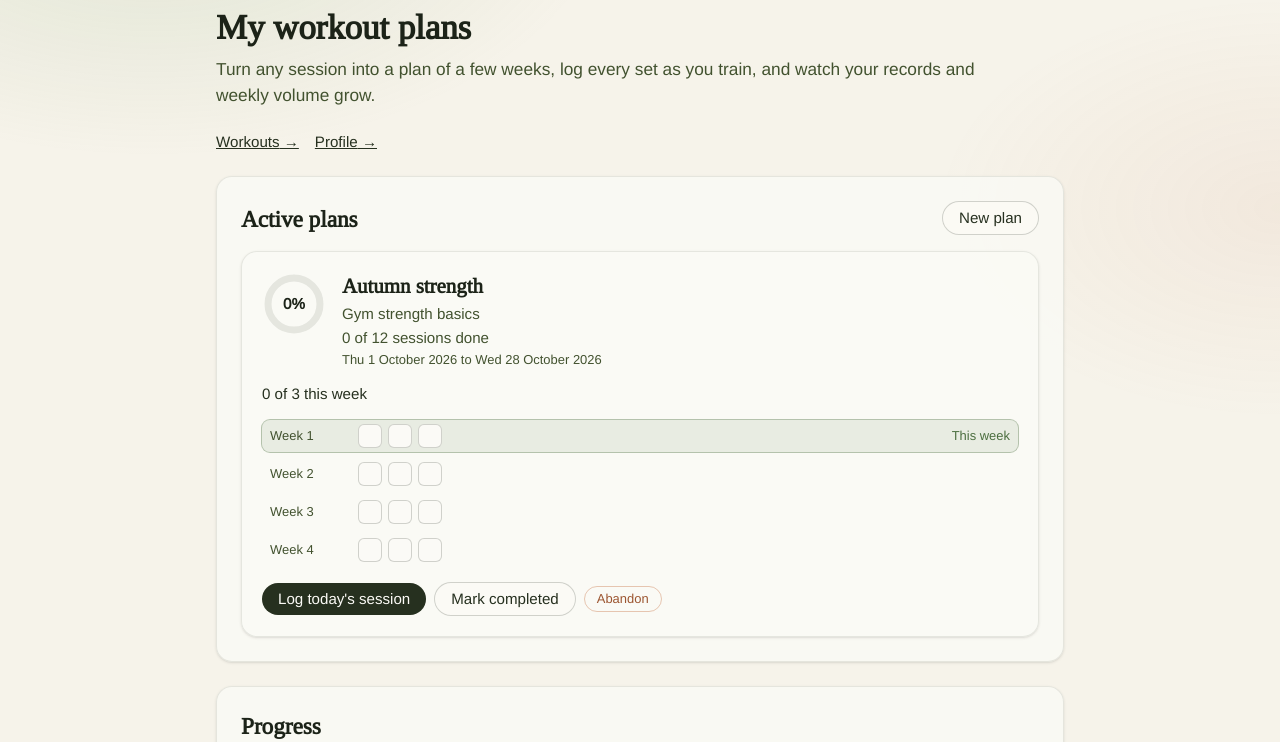
Test: <PlansPage> — logging sessions › fills a cell, moves the progress, adds the profile workout entry and lists the session
Click the button "Log today's session" at point(344, 599), box [262,583,426,615]
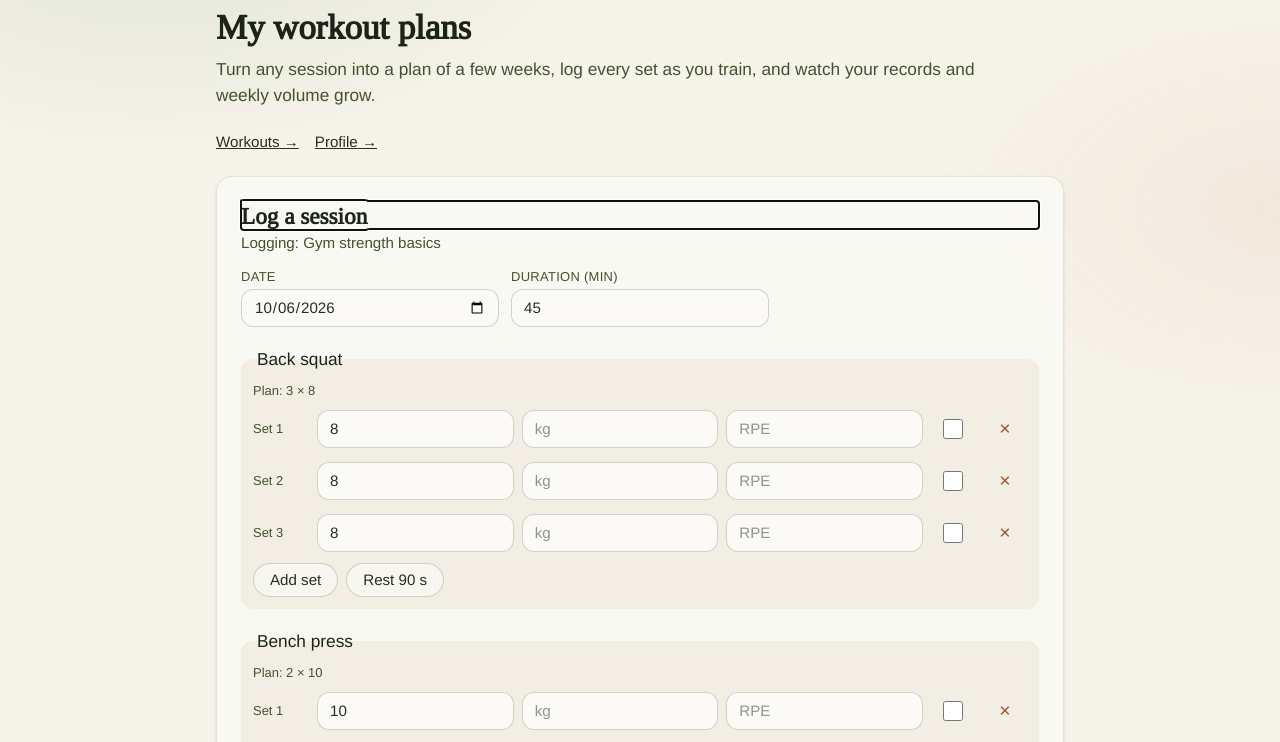
Type "60" into the 1st field with placeholder "kg" at point(620, 429), box [522,410,718,448]
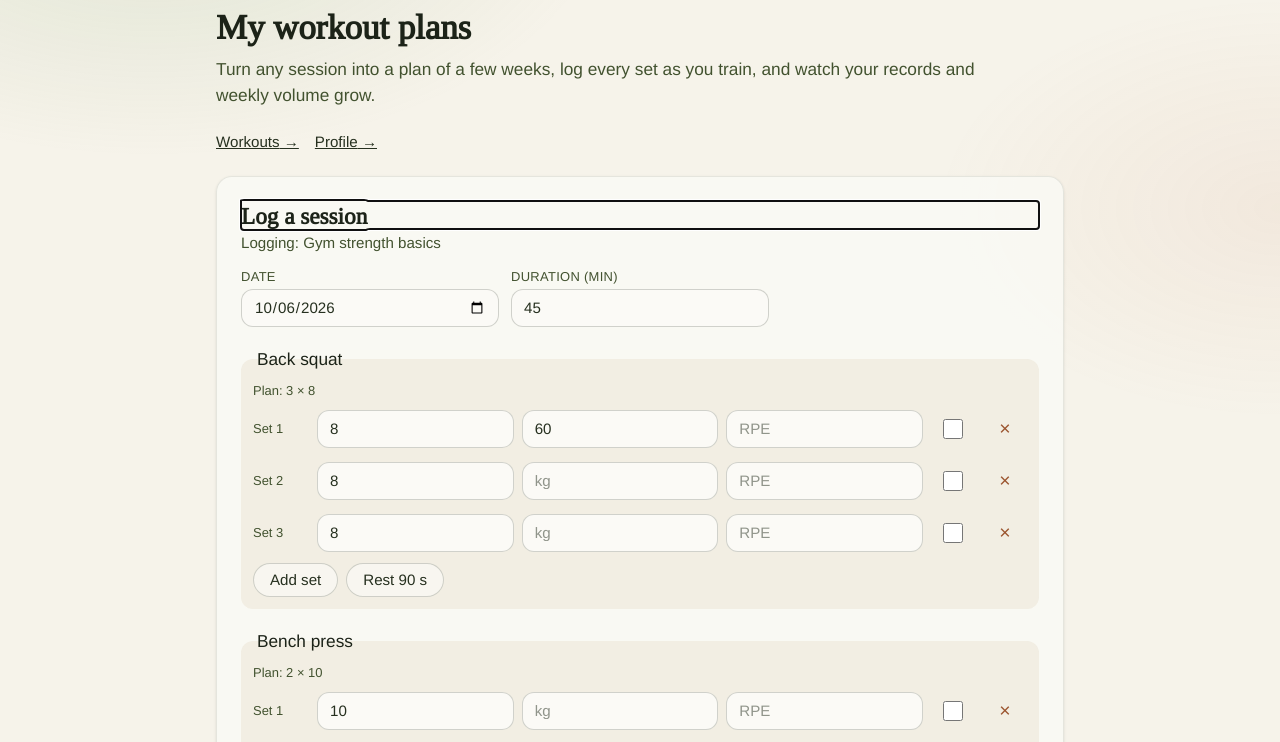
Click the checkbox named "Done · Set 1 · Back squat" at point(953, 429), box [943,419,963,439]
(page scrolled)
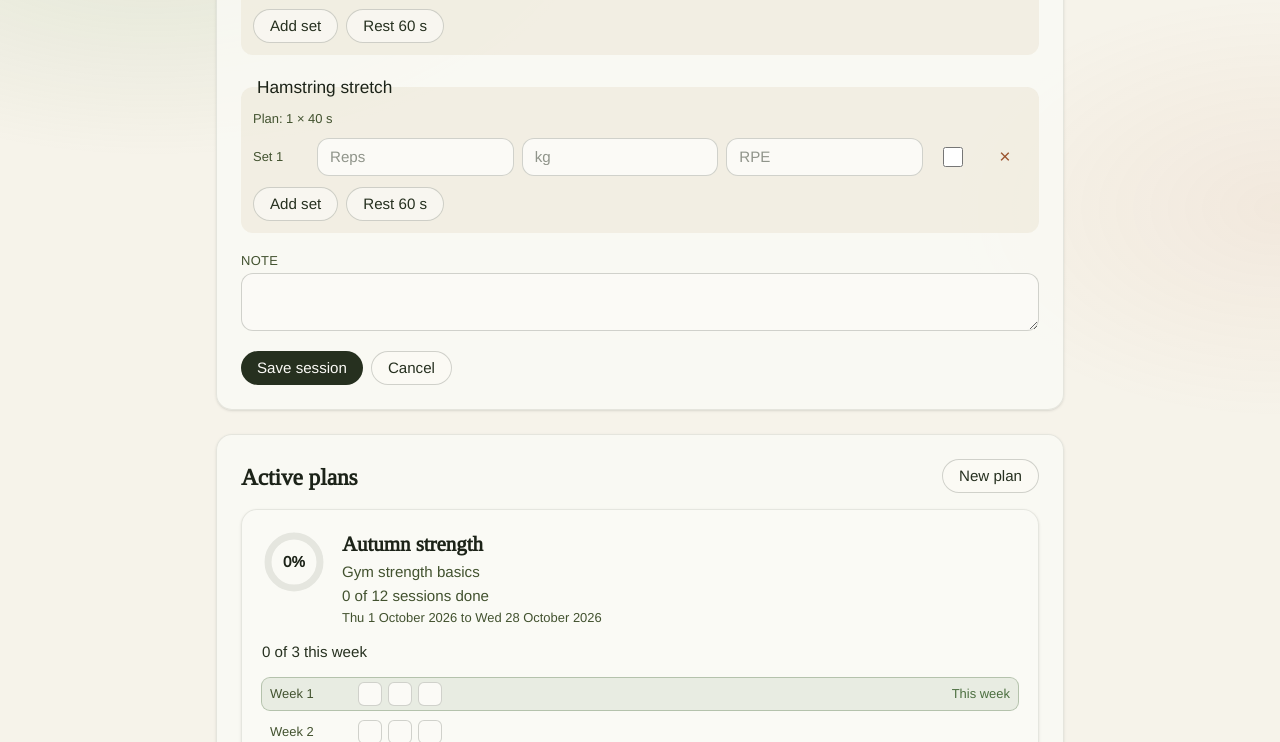
Click the button "Save session" at point(302, 368), box [241,351,363,385]
(page scrolled)
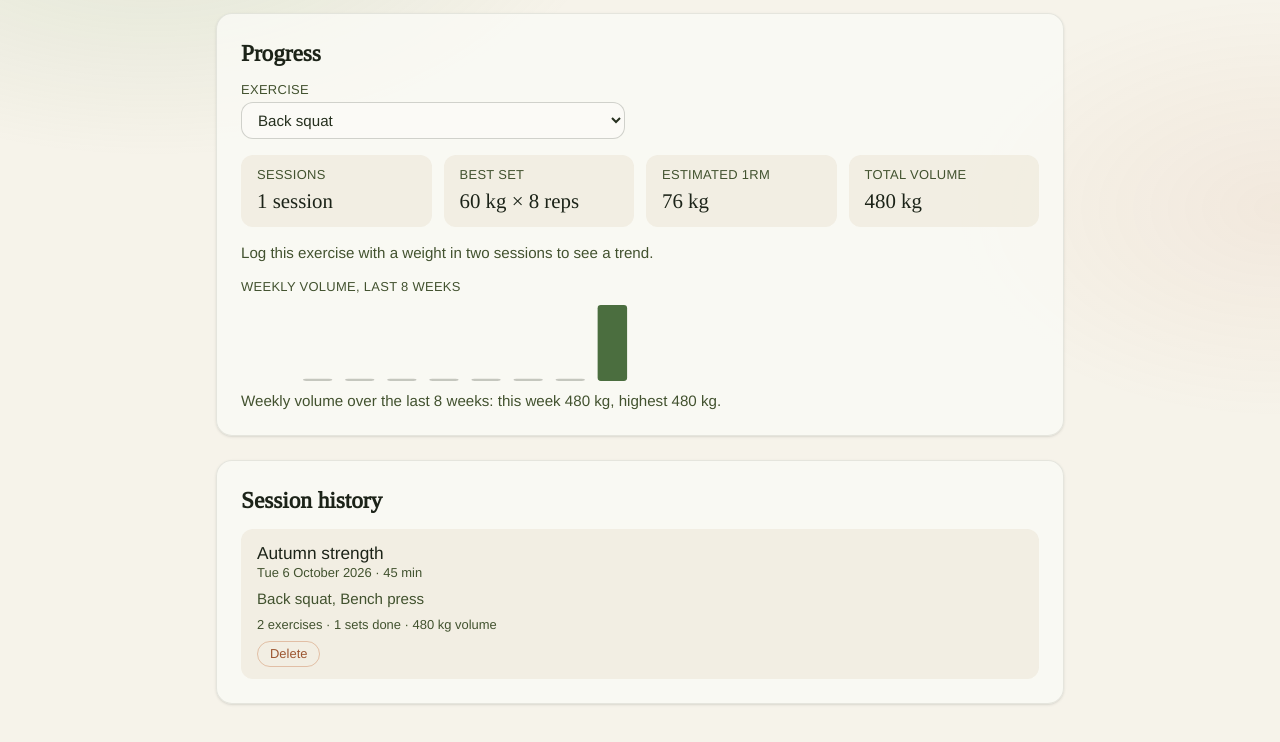
Check: the number of list items with test id "session-row" is 1, box [241,529,1039,679]
Check: the list item with test id "session-row" shows "Autumn strength", box [257,543,384,563]
